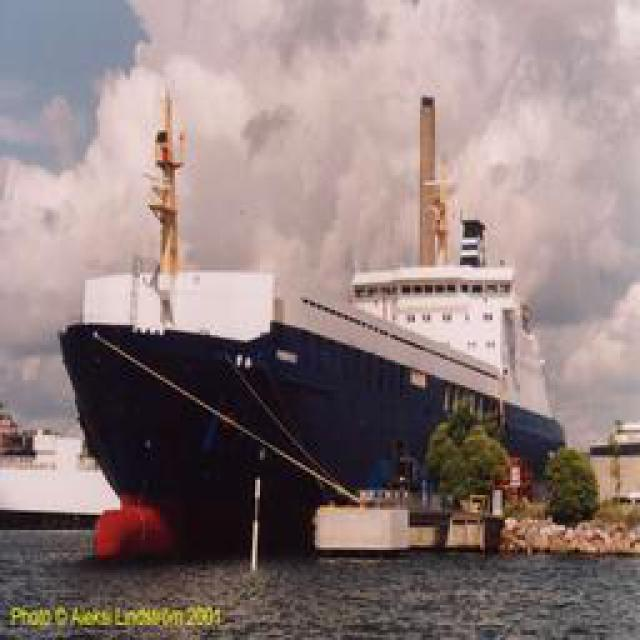Ship: (55, 76, 579, 567)
